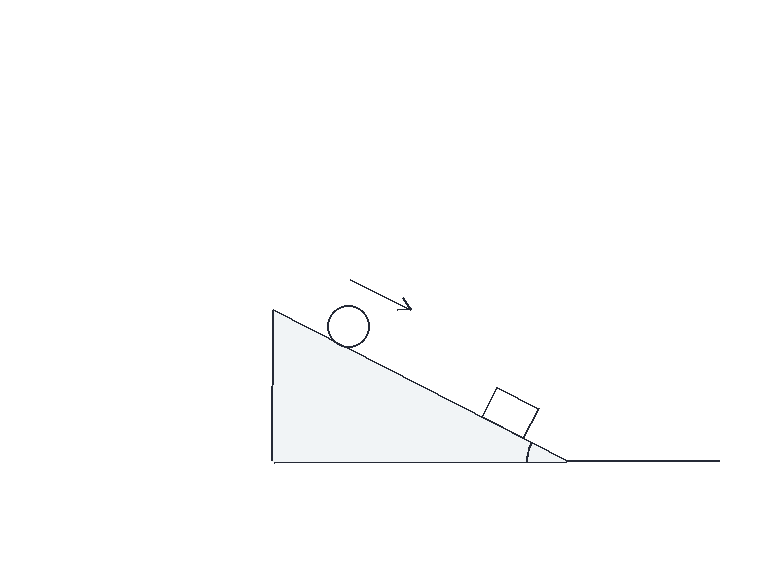ball: (325, 303, 371, 349)
block: (479, 385, 540, 440)
ramp: (270, 309, 569, 463)
